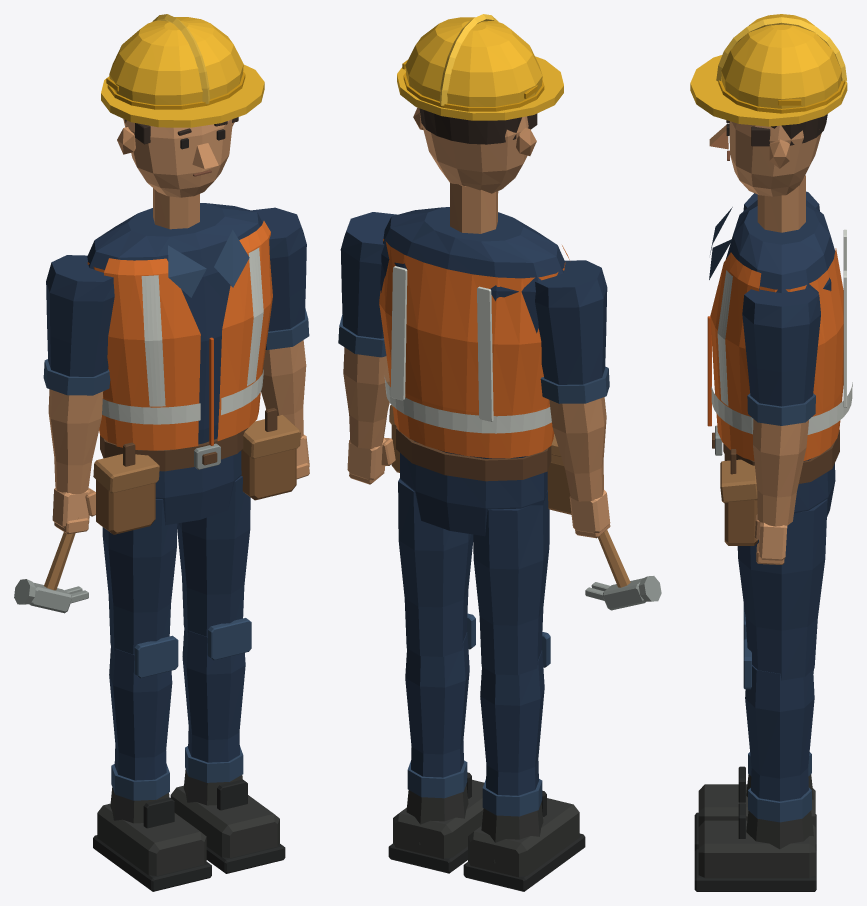
The model's file is maket-usta.glb.
3 views of the same model, side by side, from view 1: azimuth 30°, elevation 25°; view 2: azimuth 150°, elevation 25°; view 3: azimuth 270°, elevation 25° (orthographic). The views are drawn at different scales.
Parts seen in each view (by area): view 1: YelekOn-1, IsGomlegi, BaretKabuk, UstBacak-1, UstBacak1, GomlekKol-1, AltBacak-1, AltBacak1, YelekOn1, Yuz, Bot-1, OnKol-1 (+33 smaller); view 2: YelekArkaVeYan, UstBacak-1, IsGomlegi, UstBacak1, BaretKabuk, GomlekKol-1, AltBacak1, AltBacak-1, PantolonBel, GomlekKol1, OnKol-1, Bot-1 (+25 smaller); view 3: UstBacak1, GomlekKol1, BaretKabuk, AltBacak1, IsGomlegi, Bot1, YelekOn1, YelekArkaVeYan, OnKol1, Yuz, BaretSiperlik, BotTaban1 (+21 smaller).
Boxes of the visible parts, left/top/right/bottom form: YelekOn-1: left=104, top=258, right=200, bottom=450; IsGomlegi: left=87, top=203, right=262, bottom=444; BaretKabuk: left=109, top=17, right=243, bottom=104; UstBacak-1: left=102, top=499, right=177, bottom=654; UstBacak1: left=177, top=476, right=250, bottom=636; GomlekKol-1: left=46, top=255, right=114, bottom=376; AltBacak-1: left=109, top=646, right=172, bottom=780; AltBacak1: left=182, top=628, right=245, bottom=762; YelekOn1: left=217, top=221, right=272, bottom=440; Yuz: left=123, top=119, right=232, bottom=197; Bot-1: left=97, top=803, right=206, bottom=875; OnKol-1: left=48, top=389, right=103, bottom=493; YelekArkaVeYan: left=379, top=239, right=565, bottom=458; UstBacak-1: left=473, top=490, right=549, bottom=675; IsGomlegi: left=380, top=207, right=564, bottom=458; UstBacak1: left=398, top=478, right=473, bottom=656; BaretKabuk: left=405, top=17, right=542, bottom=106; GomlekKol-1: left=535, top=260, right=607, bottom=384; AltBacak1: left=405, top=632, right=469, bottom=777; AltBacak-1: left=480, top=650, right=544, bottom=795; PantolonBel: left=400, top=453, right=547, bottom=536; GomlekKol1: left=340, top=212, right=396, bottom=338; OnKol-1: left=549, top=397, right=606, bottom=501; Bot-1: left=468, top=798, right=579, bottom=877; UstBacak1: left=737, top=499, right=827, bottom=680; GomlekKol1: left=742, top=288, right=820, bottom=406; BaretKabuk: left=721, top=14, right=841, bottom=108; AltBacak1: left=745, top=665, right=814, bottom=801; IsGomlegi: left=726, top=200, right=835, bottom=461; Bot1: left=698, top=820, right=815, bottom=878; YelekOn1: left=710, top=252, right=761, bottom=460; YelekArkaVeYan: left=760, top=248, right=843, bottom=460; OnKol1: left=753, top=419, right=808, bottom=526; Yuz: left=729, top=121, right=821, bottom=196; BaretSiperlik: left=690, top=55, right=847, bottom=126; BotTaban1: left=694, top=849, right=816, bottom=891.
Size of the model in its own units: 0.7593 by 2.01 by 0.3501.
